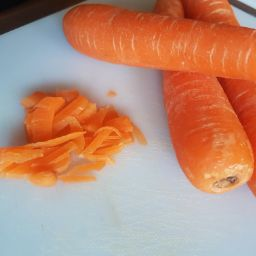Sliced carrots: (149, 4, 256, 206), (3, 81, 150, 206), (55, 4, 256, 91)
